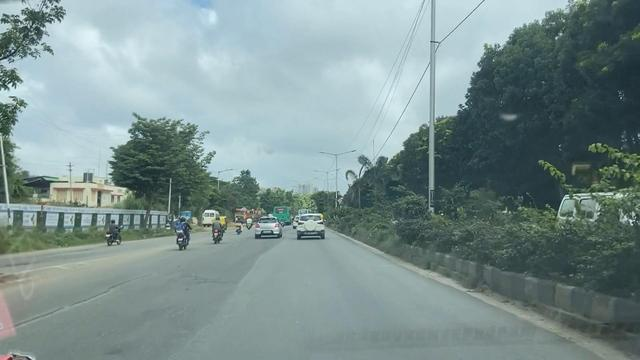LMV: (291, 209, 328, 241), (249, 211, 283, 242), (172, 212, 195, 250), (102, 218, 124, 250), (210, 211, 228, 247)
RoadDamages: (63, 279, 141, 313)
